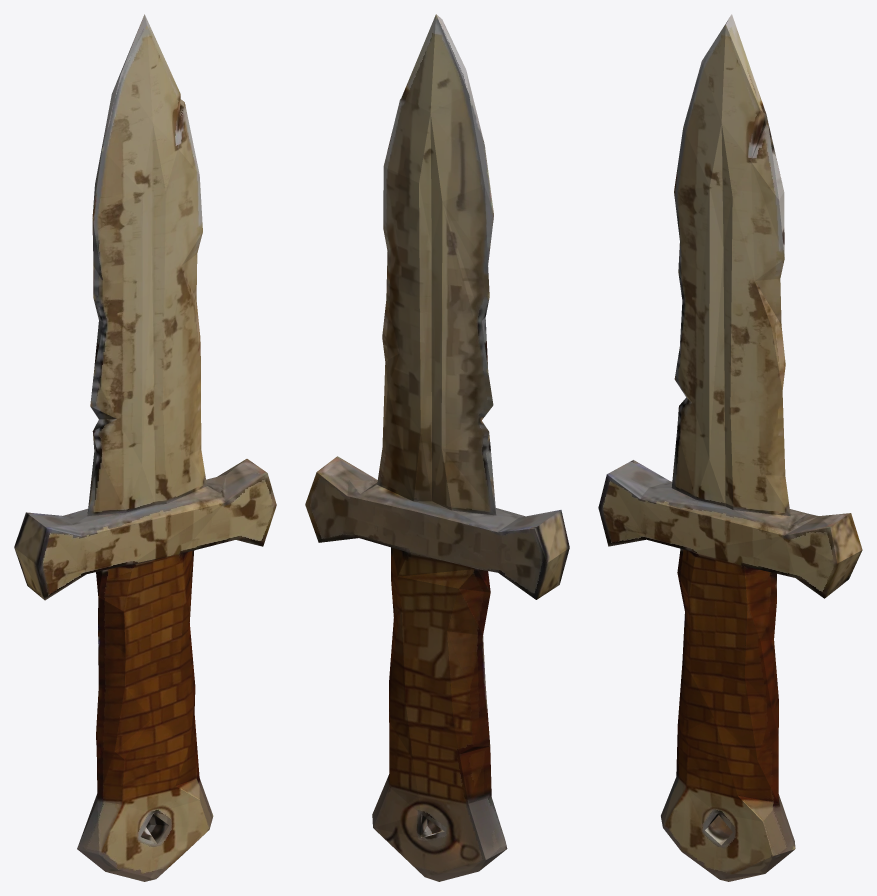
The model's file is dagger_blade_hand_held.glb.
The picture shows the model from 3 angles, left to right: view 1: azimuth 30°, elevation 25°; view 2: azimuth 150°, elevation 25°; view 3: azimuth 330°, elevation 25°; orthographic projection.
Visible parts, largest first — view 1: TexturedMesh_.obj; view 2: TexturedMesh_.obj; view 3: TexturedMesh_.obj.
Part boxes in pixels (x1=…): TexturedMesh_.obj: x1=14, y1=14, x2=276, y2=881; TexturedMesh_.obj: x1=305, y1=14, x2=569, y2=881; TexturedMesh_.obj: x1=598, y1=14, x2=862, y2=881.
Bounding box in the file's own units: 0.5785 × 1.98 × 0.1019.
1 material, 1 textured.
